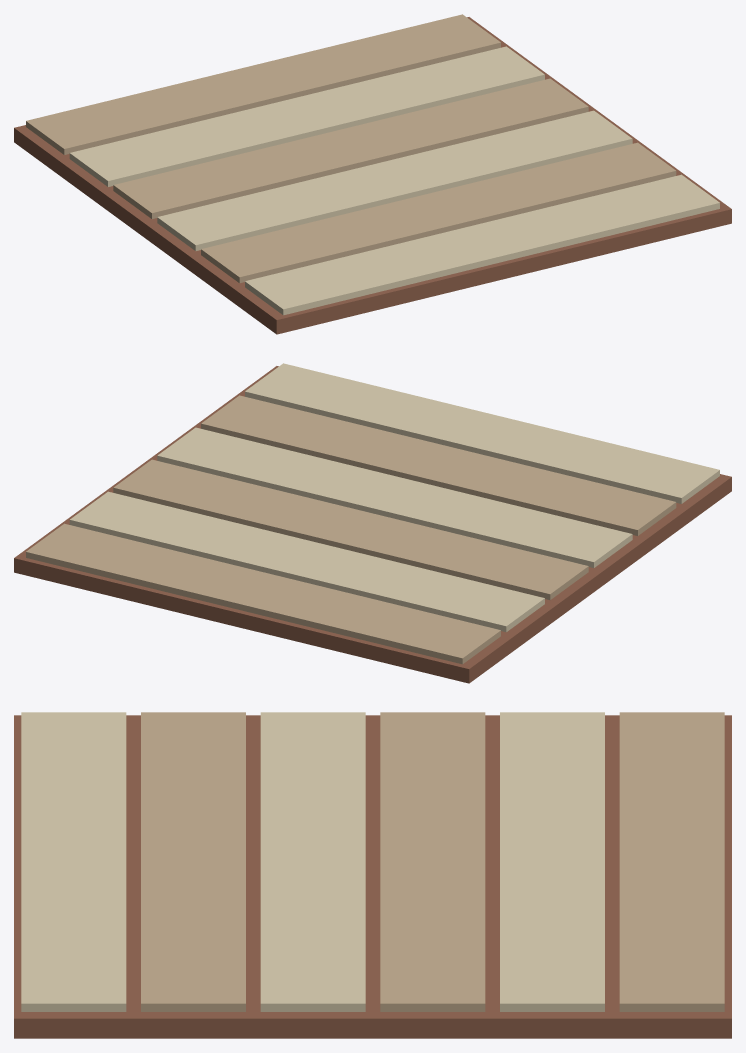
File: path_walk.glb
3 renders of one model, top to bottom at view 1: azimuth 30°, elevation 25°; view 2: azimuth 150°, elevation 25°; view 3: azimuth 270°, elevation 25°, orthographic. The views are drawn at different scales.
Visible parts, largest first — view 1: path_walk; view 2: path_walk; view 3: path_walk.
Boxes of the visible parts, left/top/right/bottom form: path_walk: left=14, top=14, right=731, bottom=334; path_walk: left=14, top=363, right=731, bottom=683; path_walk: left=14, top=712, right=731, bottom=1038.
Size of the model in its own units: 3.96 by 0.175 by 3.96.
